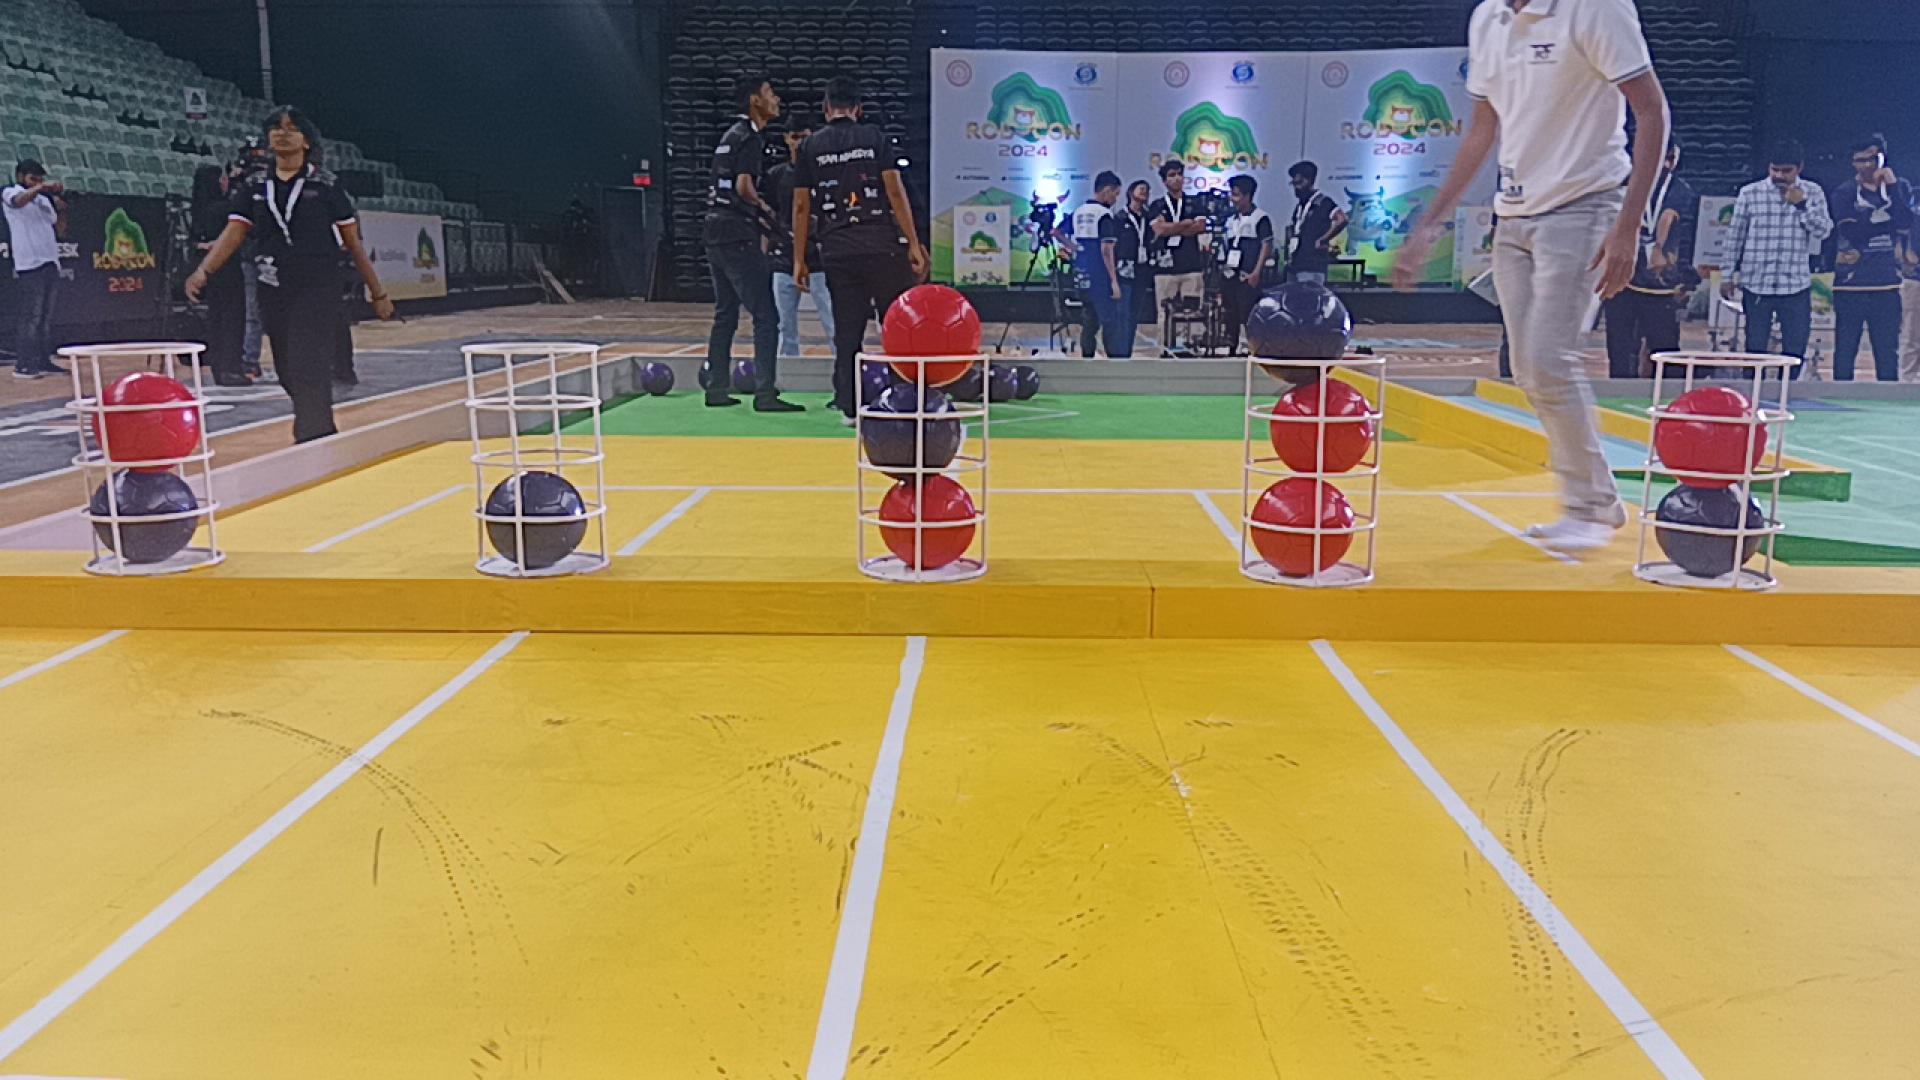dhoka: (1245, 277, 1350, 386), (1656, 484, 1766, 578), (86, 471, 195, 563), (487, 472, 588, 570), (860, 384, 961, 479)
laale: (1656, 385, 1766, 491), (1247, 479, 1353, 578), (1270, 378, 1374, 476), (881, 285, 978, 384), (88, 373, 196, 460), (877, 477, 975, 571)
